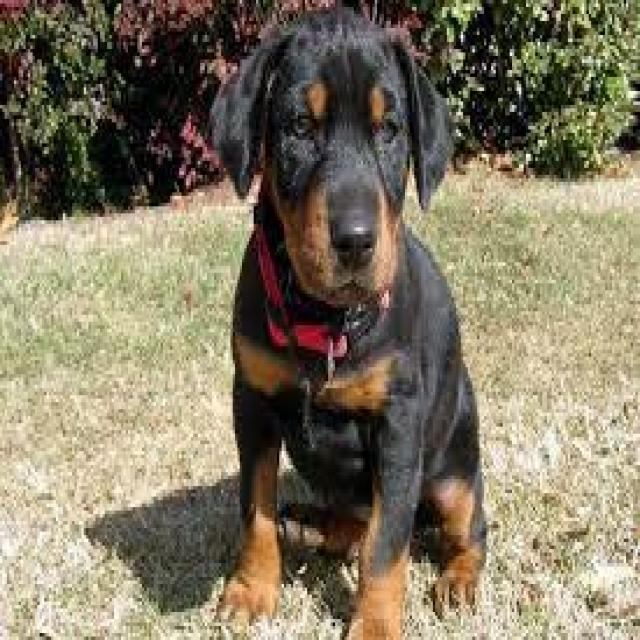Dog: (210, 10, 491, 640)
